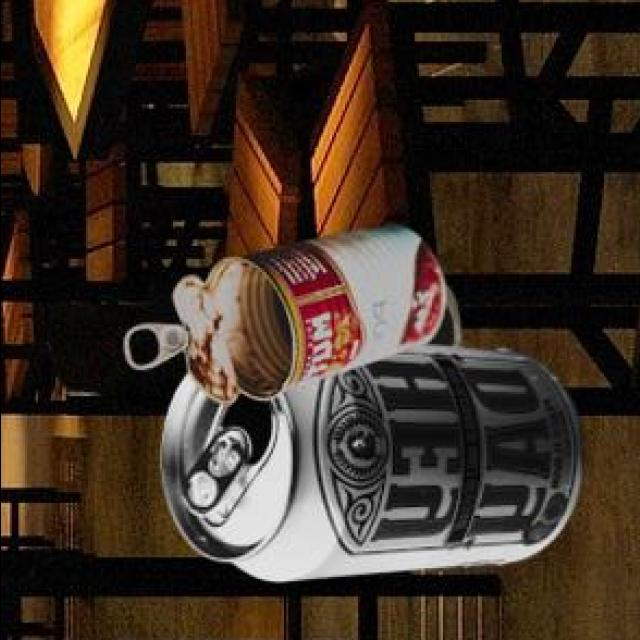logam: (158, 341, 580, 578), (121, 223, 443, 402), (423, 282, 456, 343)
